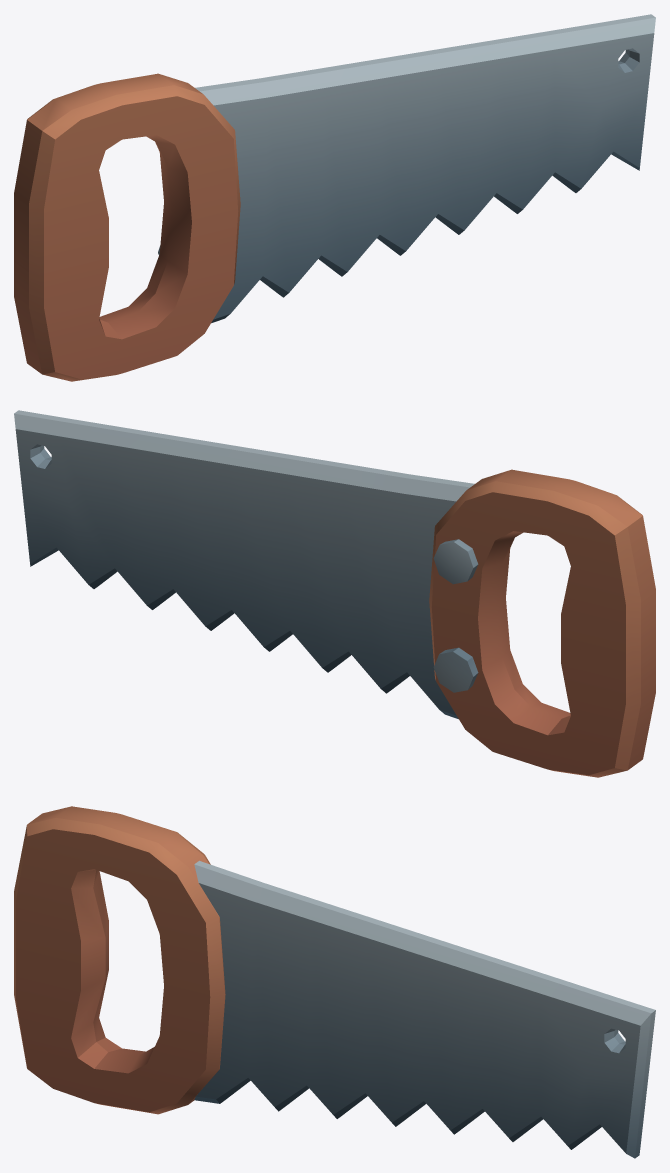
Rendered from saw.glb.
The picture shows the model from 3 angles, top to bottom: view 1: azimuth 30°, elevation 25°; view 2: azimuth 150°, elevation 25°; view 3: azimuth 330°, elevation 25°; orthographic projection.
Visible parts, largest first — view 1: saw; view 2: saw; view 3: saw.
Boxes of the visible parts, x1,y1,x2,y2 form: saw: [14, 14, 655, 381]; saw: [14, 410, 655, 777]; saw: [14, 806, 655, 1158].
Size of the model in its own units: 1.98 by 0.8385 by 0.1895.
Materials: 1 (1 with a texture image).
